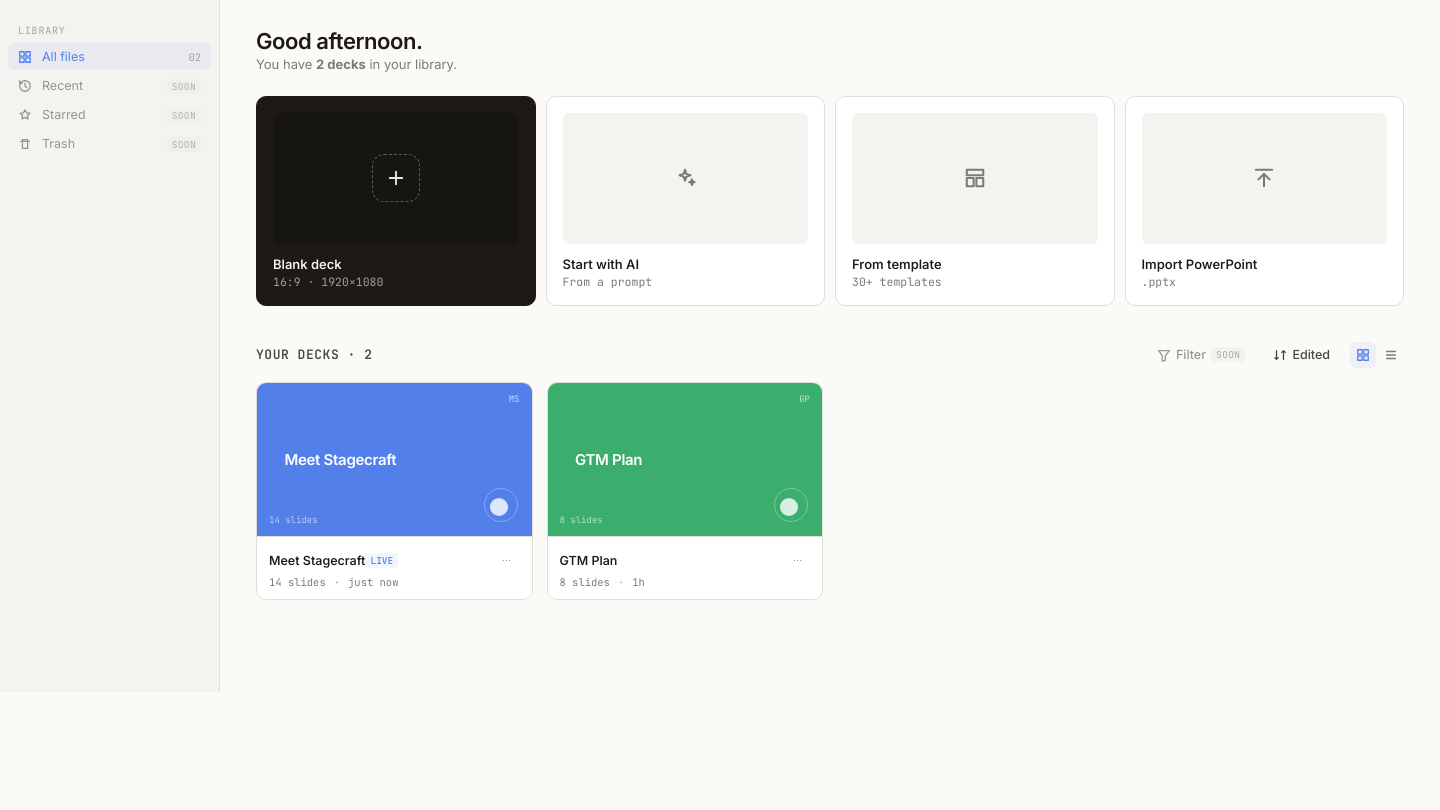
Test: HomeView list view — rename and delete › clicking actions opens a menu with Rename and Delete
The width and height of the screenshot is (1440, 810).
Click the button titled "List view" at (1391,355), box top-left (1378, 342), bottom-right (1404, 368)
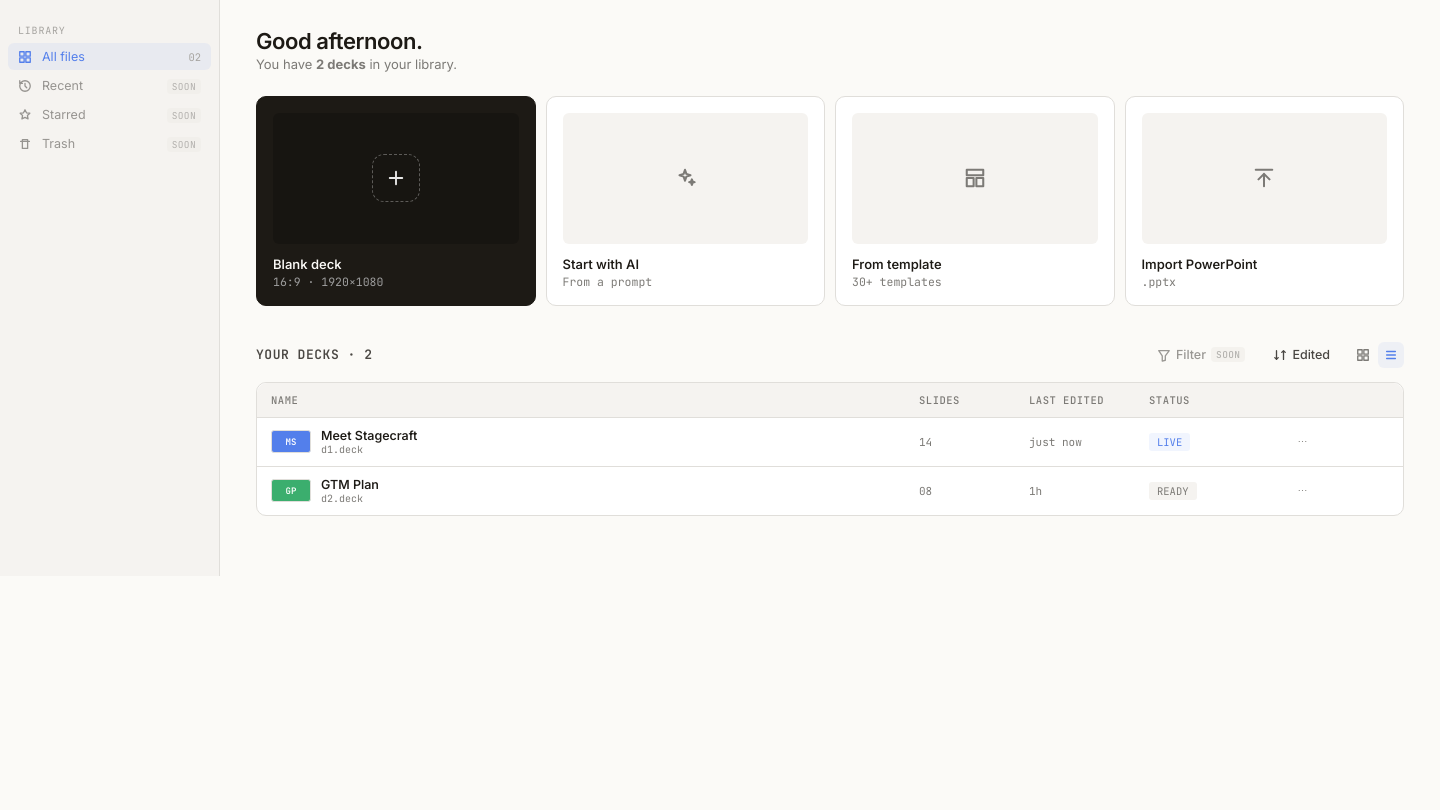
Click the button titled "Actions: GTM Plan" at (1302,491), box top-left (1289, 478), bottom-right (1315, 504)
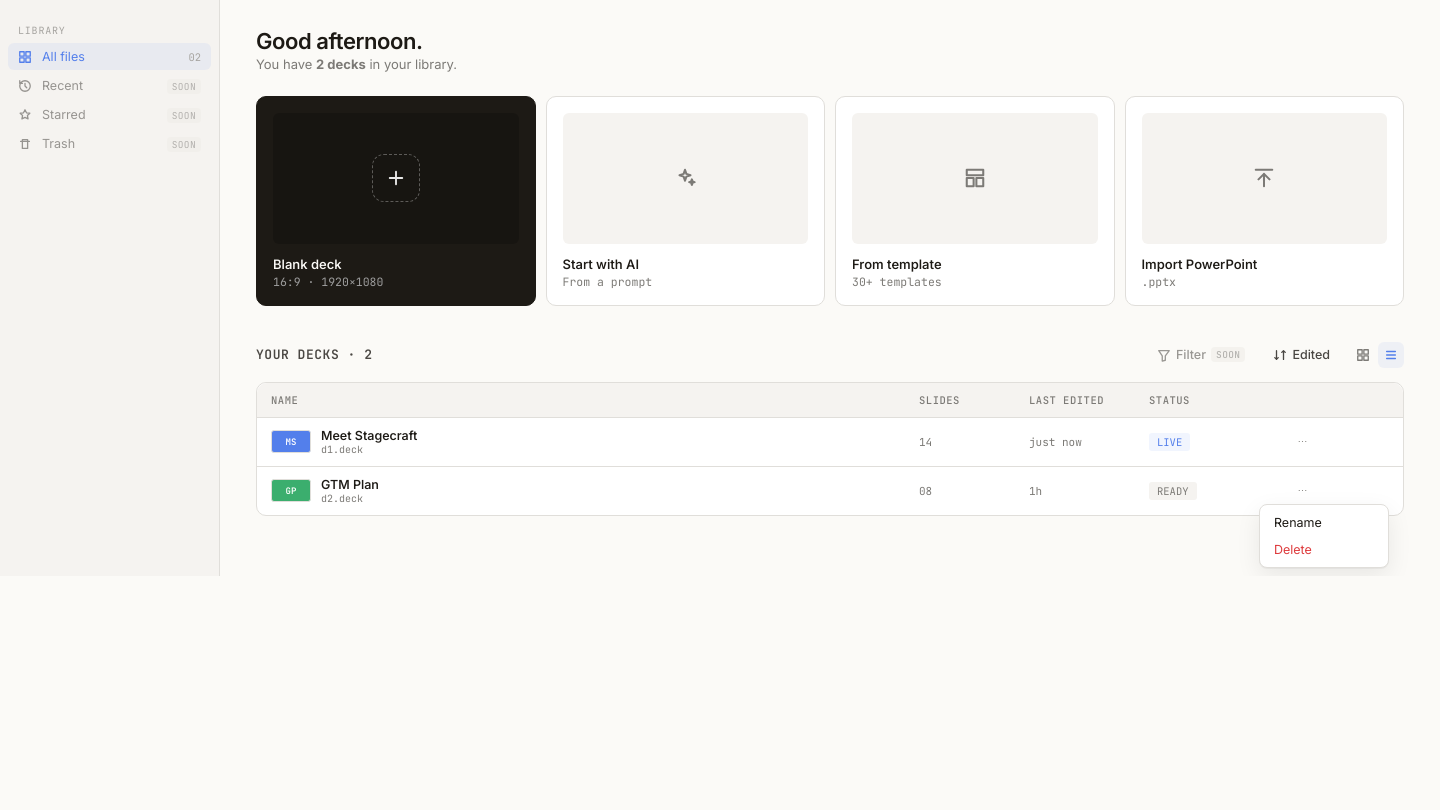
Check: the button "Rename" is shown, box top-left (1264, 509), bottom-right (1384, 536)
Check: the button "Delete" is shown, box top-left (1264, 536), bottom-right (1384, 563)
